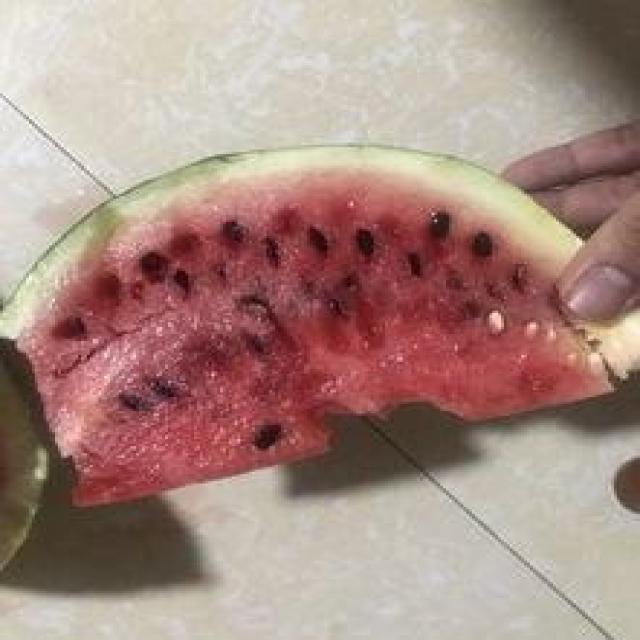Wet Waste: (0, 138, 634, 507)
